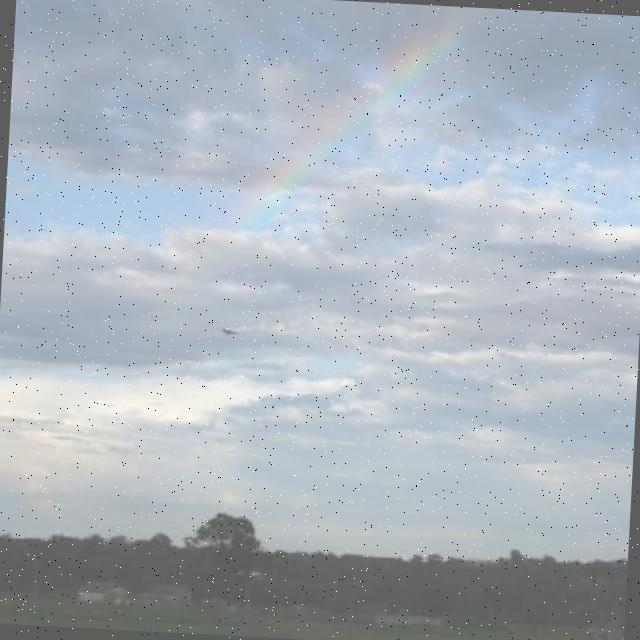Ac: (1, 1, 640, 505)
